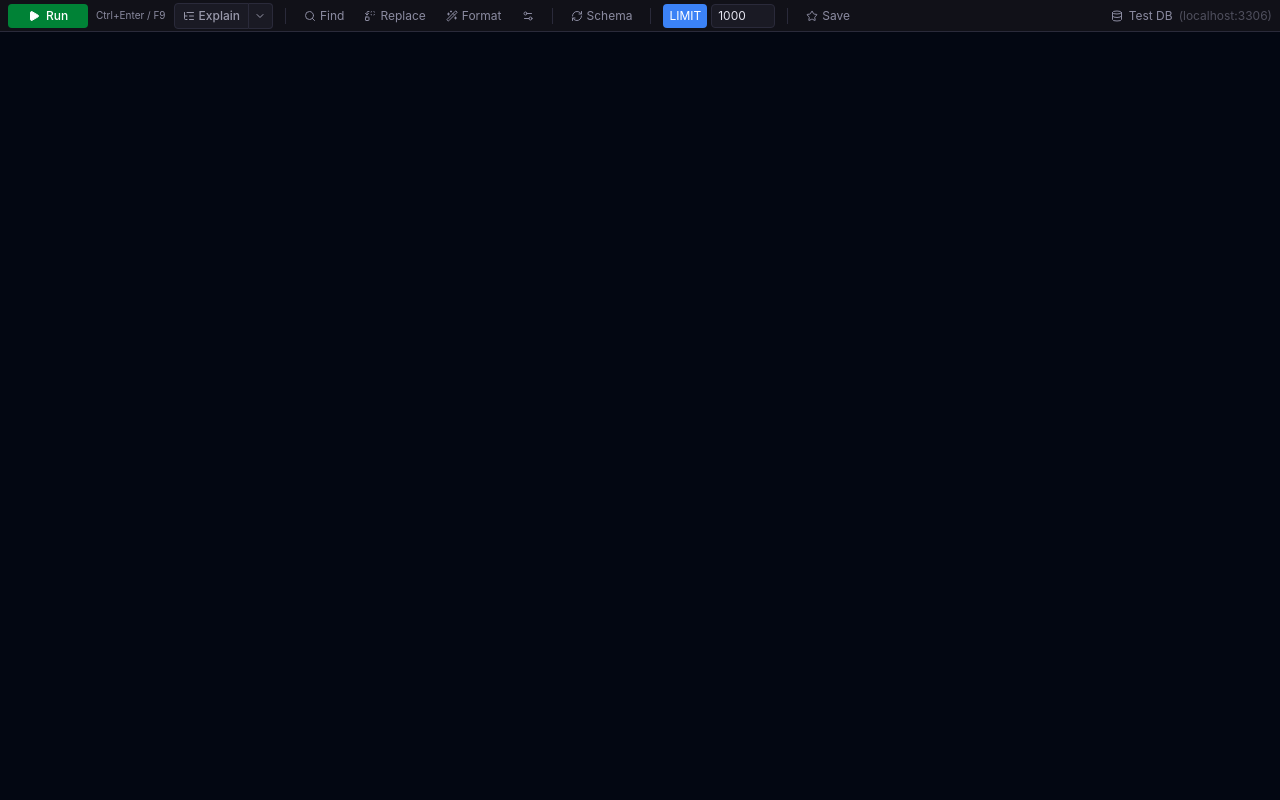
it: QueryToolbar › opens formatter settings when gear button is clicked
What coordinates should you click on to do the following:
click the button titled "Formatter Settings"
I would click on:
 (528, 16)
Its box is [516,4,540,28].
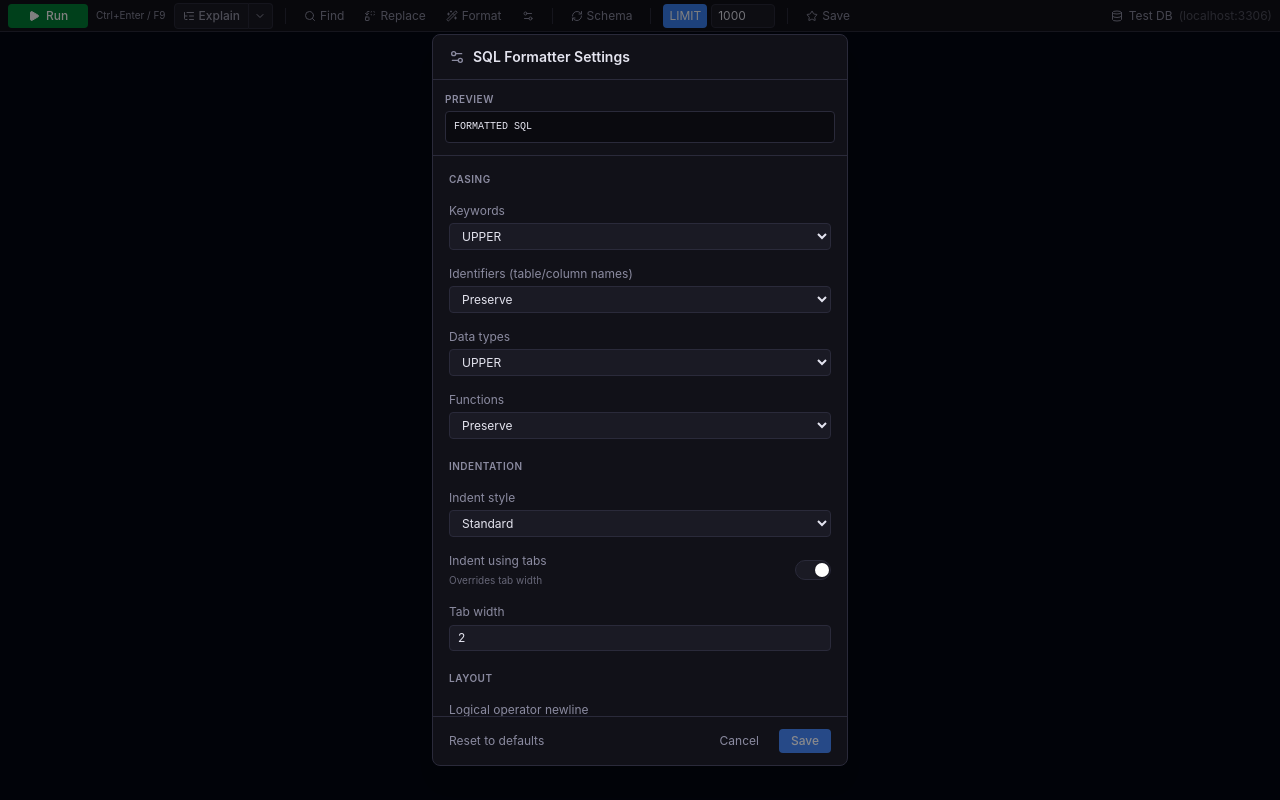
Expected: the heading "SQL Formatter Settings" is shown, [473,47,630,67]
